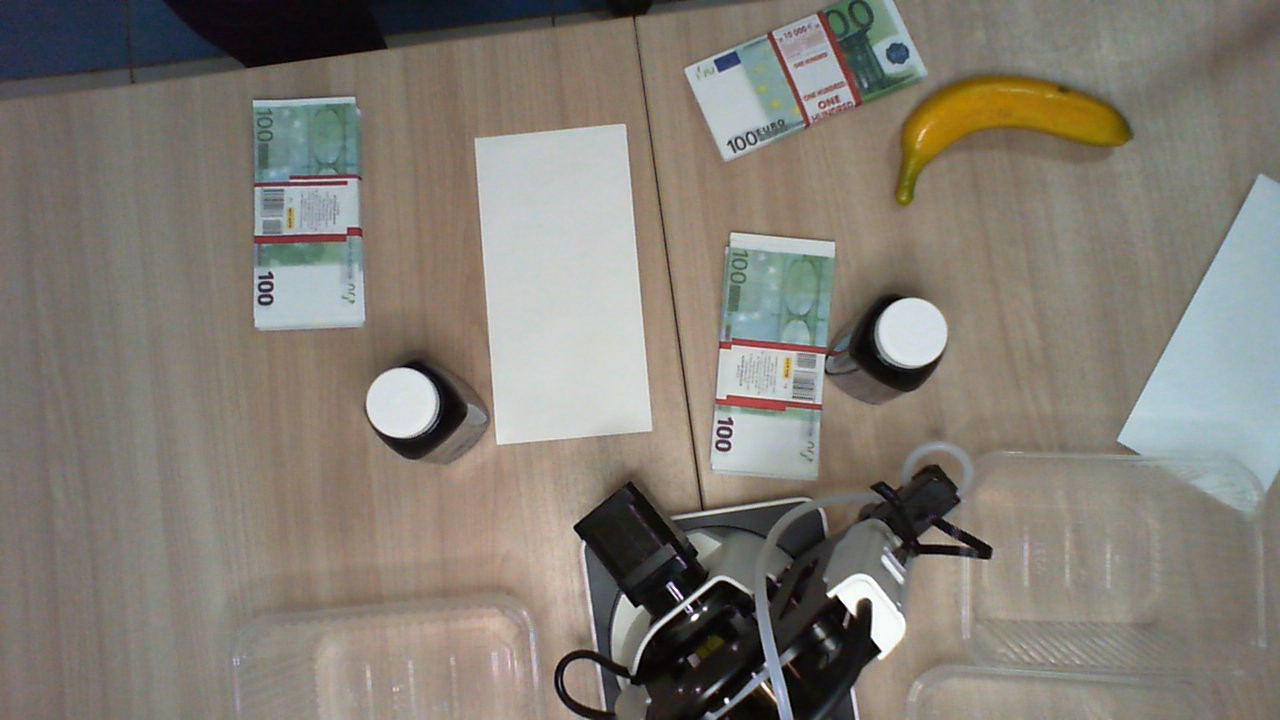banana: (893, 73, 1135, 206)
bottle: (363, 358, 463, 457), (855, 294, 948, 385)
convert: (472, 123, 650, 453), (1116, 171, 1280, 512)
money: (680, 1, 929, 162), (708, 231, 835, 482), (253, 97, 361, 330)
